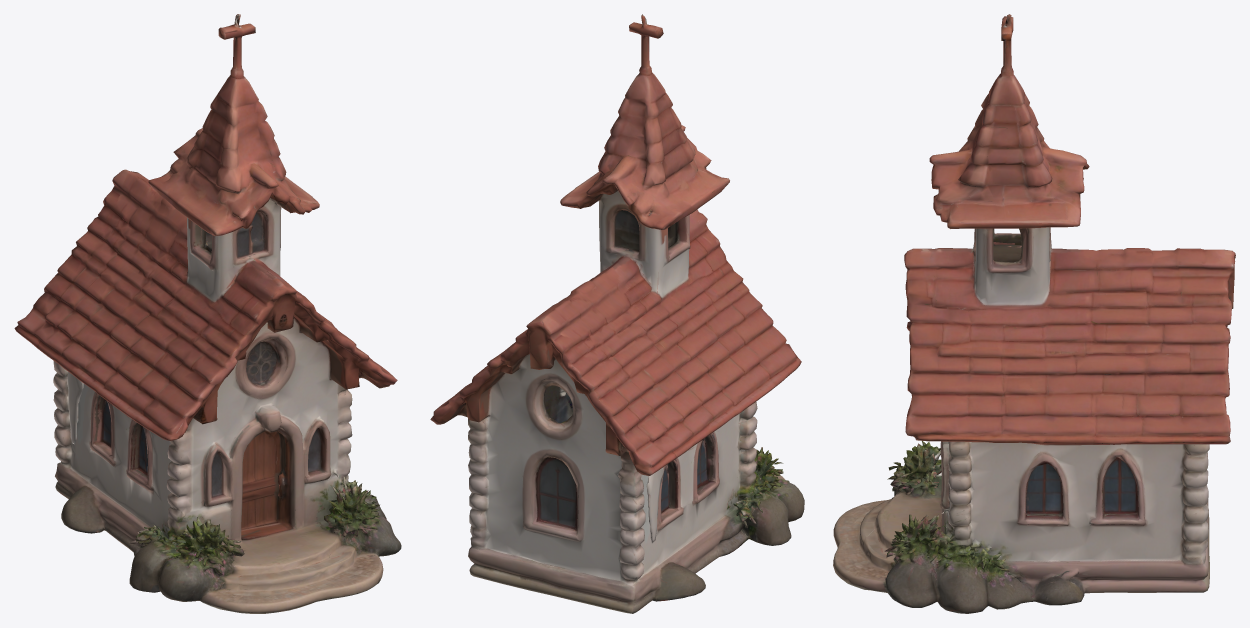
The model's file is Meshy_AI_kleine_Dorfkirche_1016102512_texture.fbx.
The picture shows the model from 3 angles, left to right: view 1: azimuth 30°, elevation 25°; view 2: azimuth 150°, elevation 25°; view 3: azimuth 270°, elevation 25°; orthographic projection. The views are drawn at different scales.
Visible parts, largest first — view 1: Mesh_0; view 2: Mesh_0; view 3: Mesh_0.
Boxes of the visible parts, x1,y1,x2,y2 form: Mesh_0: (14,14,401,613); Mesh_0: (430,14,804,613); Mesh_0: (833,14,1235,613).
Bounding box in the file's own units: 99.79 × 199 × 134.
1 material, 1 textured.
